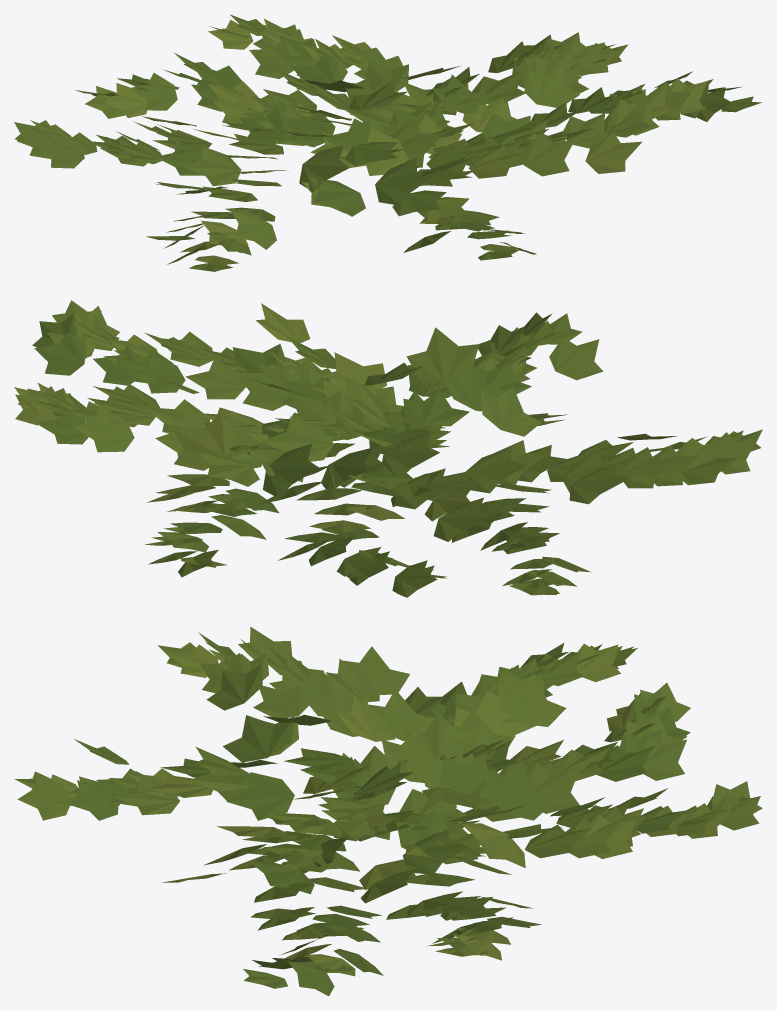
Rendered from zone1-decor1.glb.
3 views of the same model, one above another, from view 1: azimuth 30°, elevation 25°; view 2: azimuth 150°, elevation 25°; view 3: azimuth 270°, elevation 25° (orthographic). The views are drawn at different scales.
Parts seen in each view (by area): view 1: vine-horizontal-a.001; view 2: vine-horizontal-a.001; view 3: vine-horizontal-a.001.
Boxes of the visible parts, x1,y1,x2,y2 form: vine-horizontal-a.001: [14, 14, 762, 271]; vine-horizontal-a.001: [14, 300, 762, 597]; vine-horizontal-a.001: [14, 626, 762, 996].
Size of the model in its own units: 6.19 by 0.529 by 5.6.
1 material, 1 textured.
